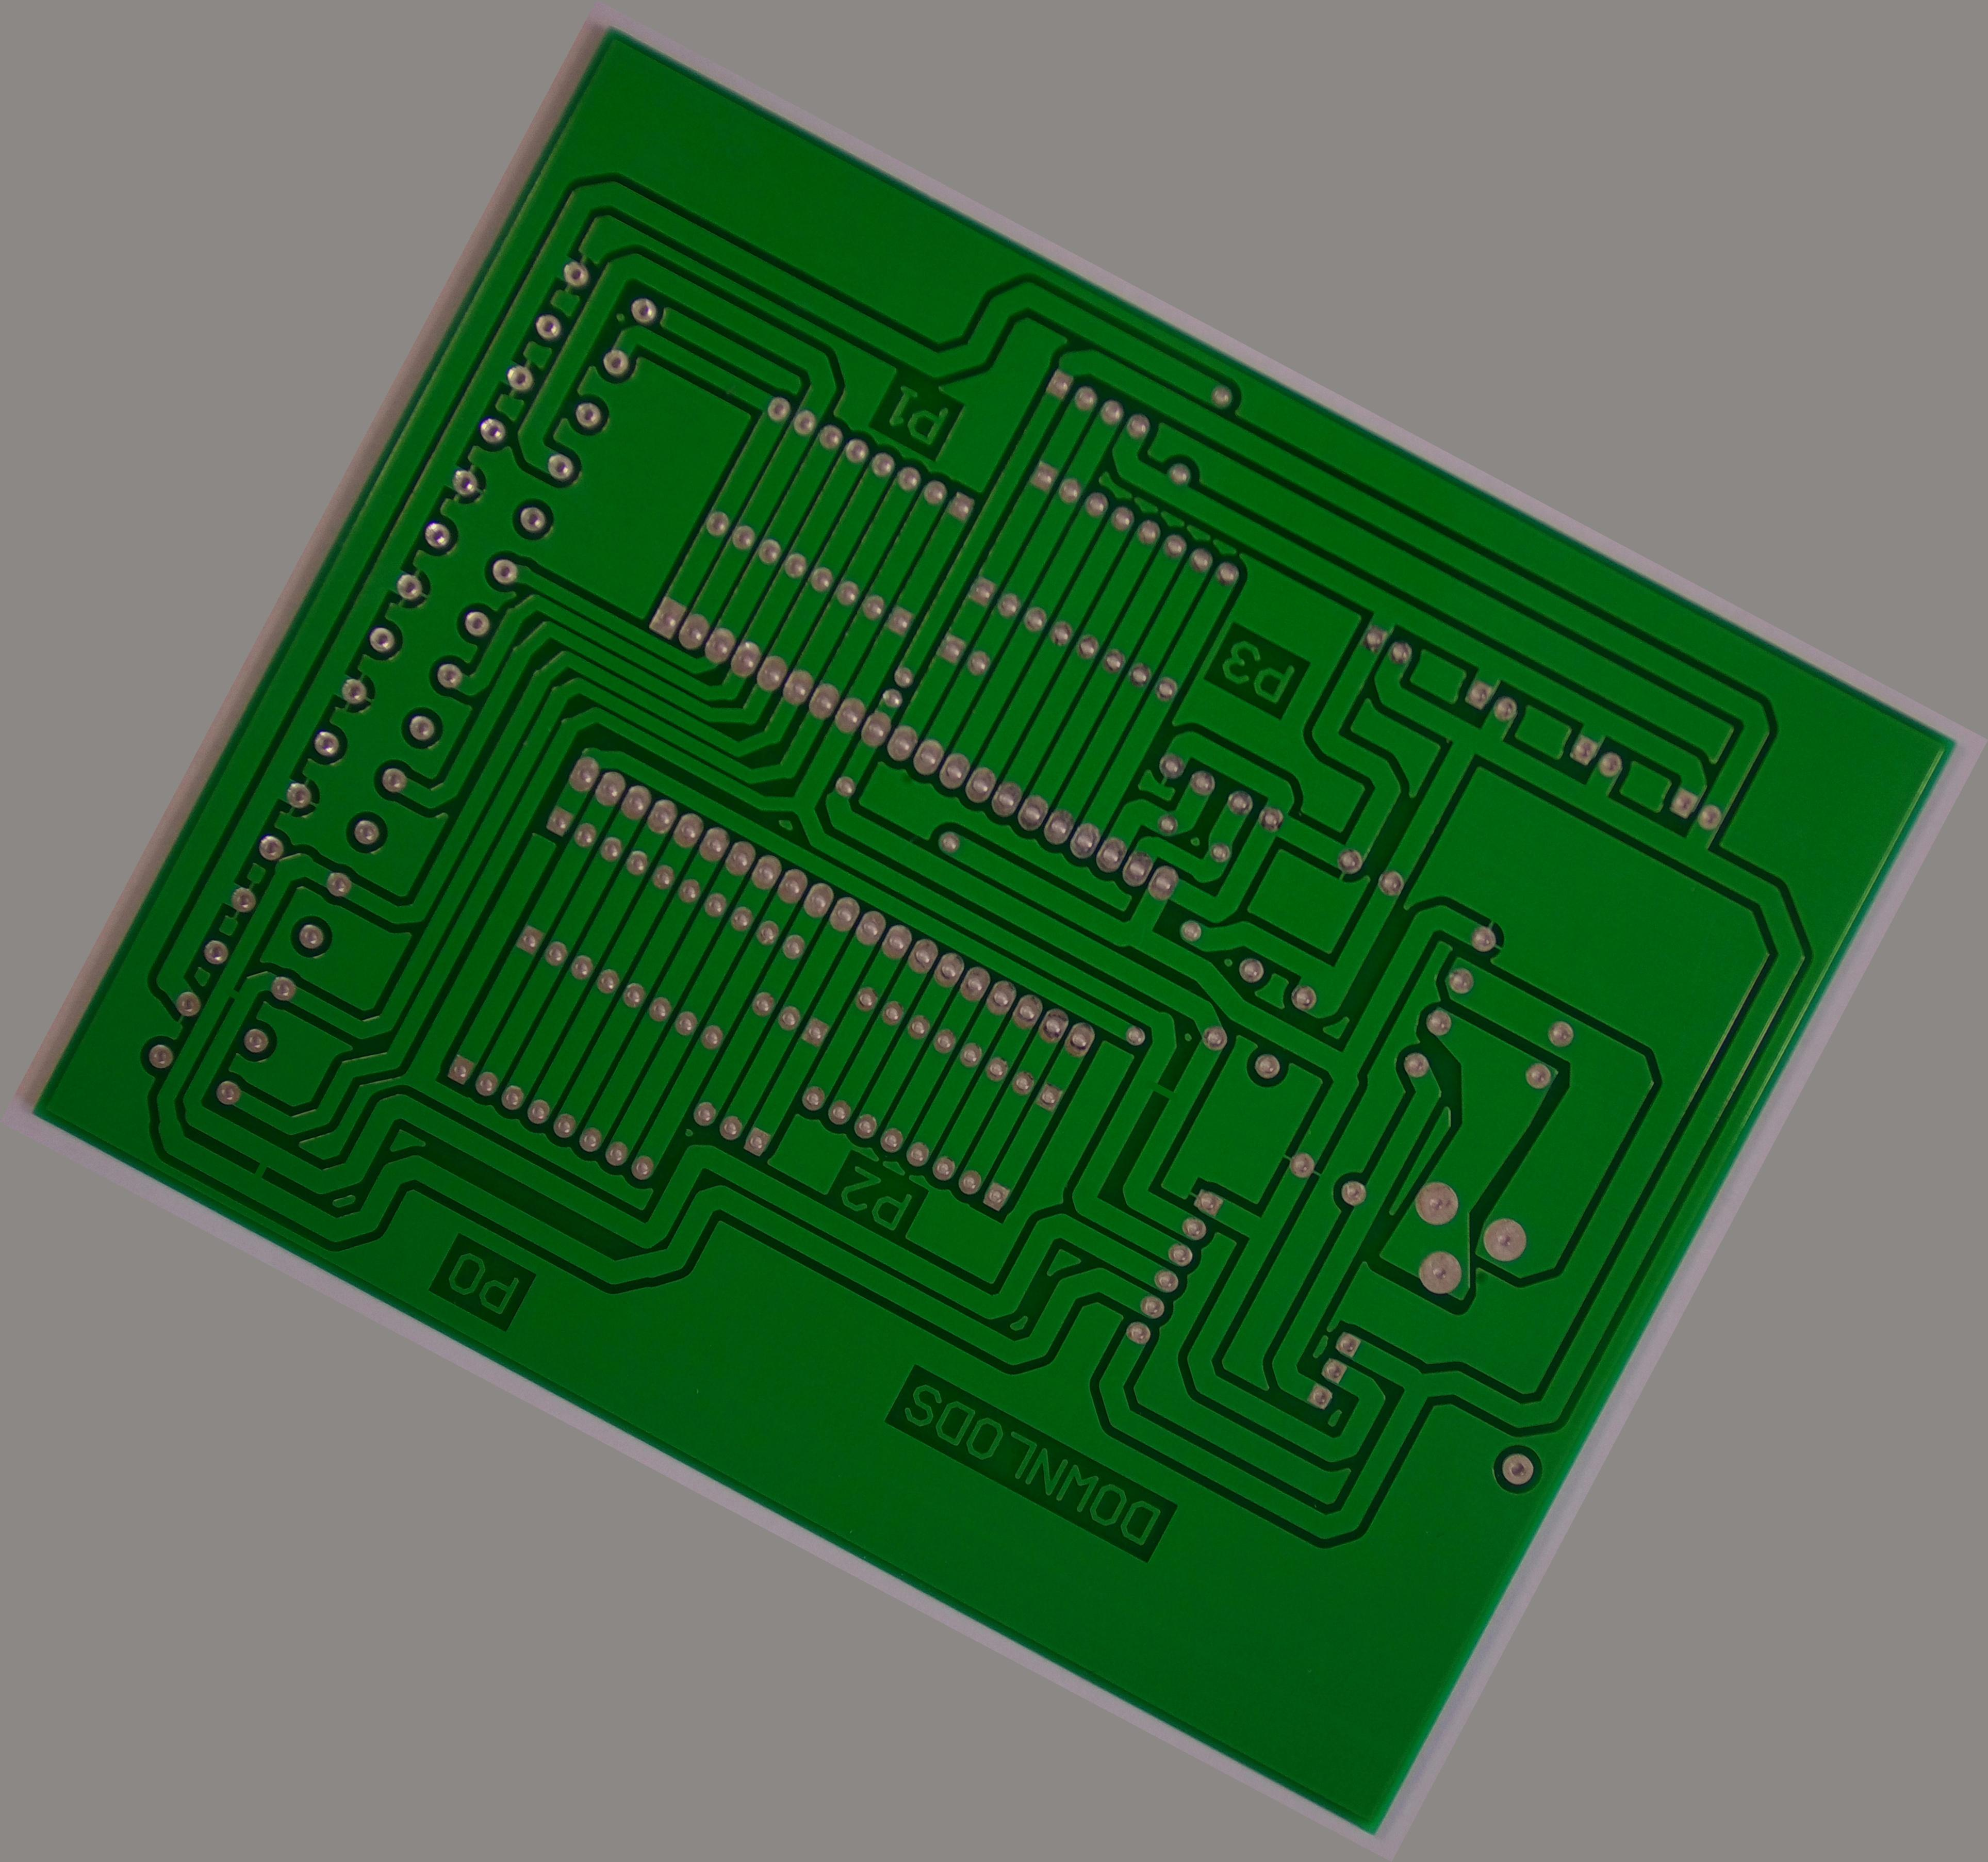short: (1120, 1050, 1207, 1134), (227, 1125, 310, 1211), (201, 954, 273, 1026)
